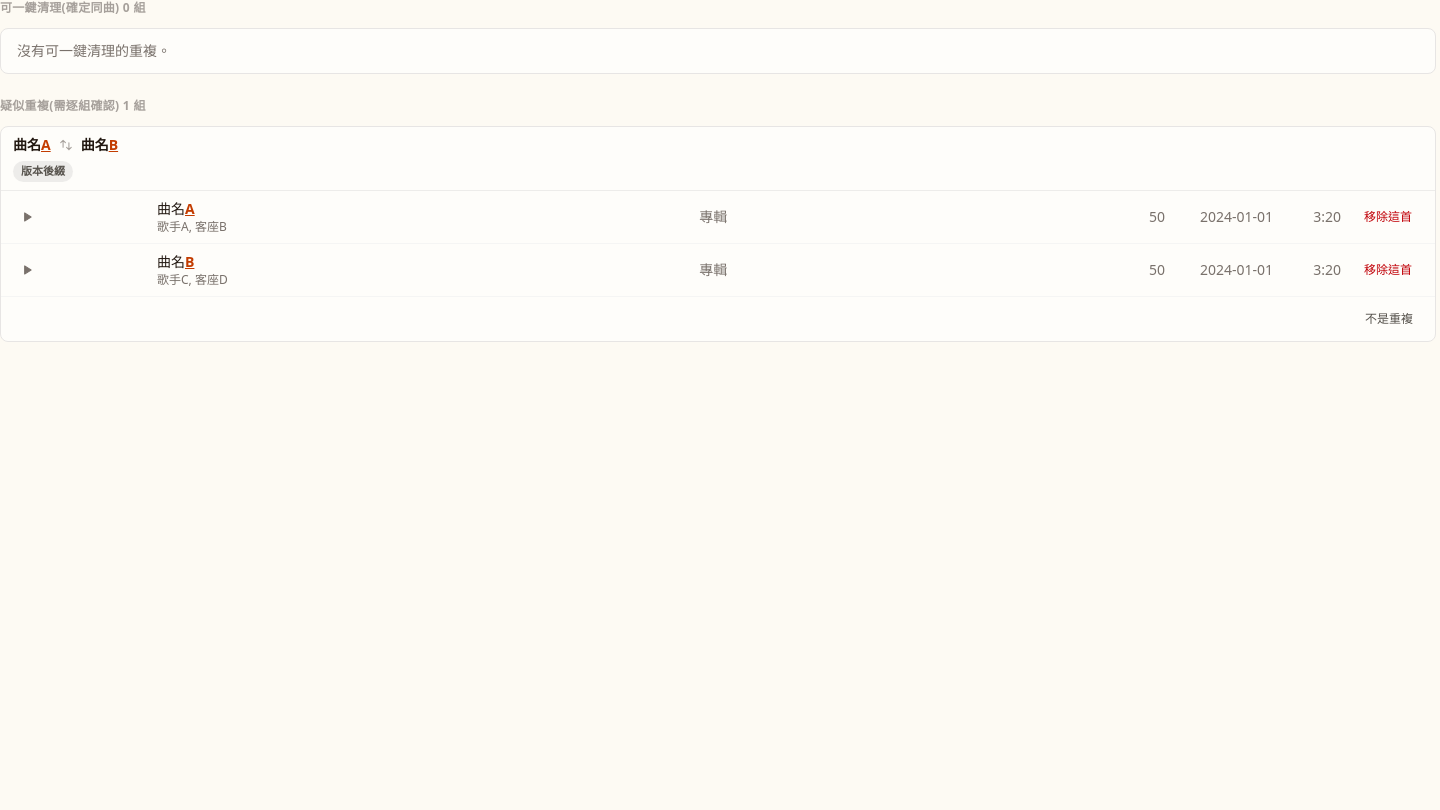
Test: CleanupView 疑似重複場景 › test_S5_取消移除為no-op
Click the button "移除這首" in the row of "歌手A, 客座B": click(1388, 216) [1353, 202, 1423, 230]
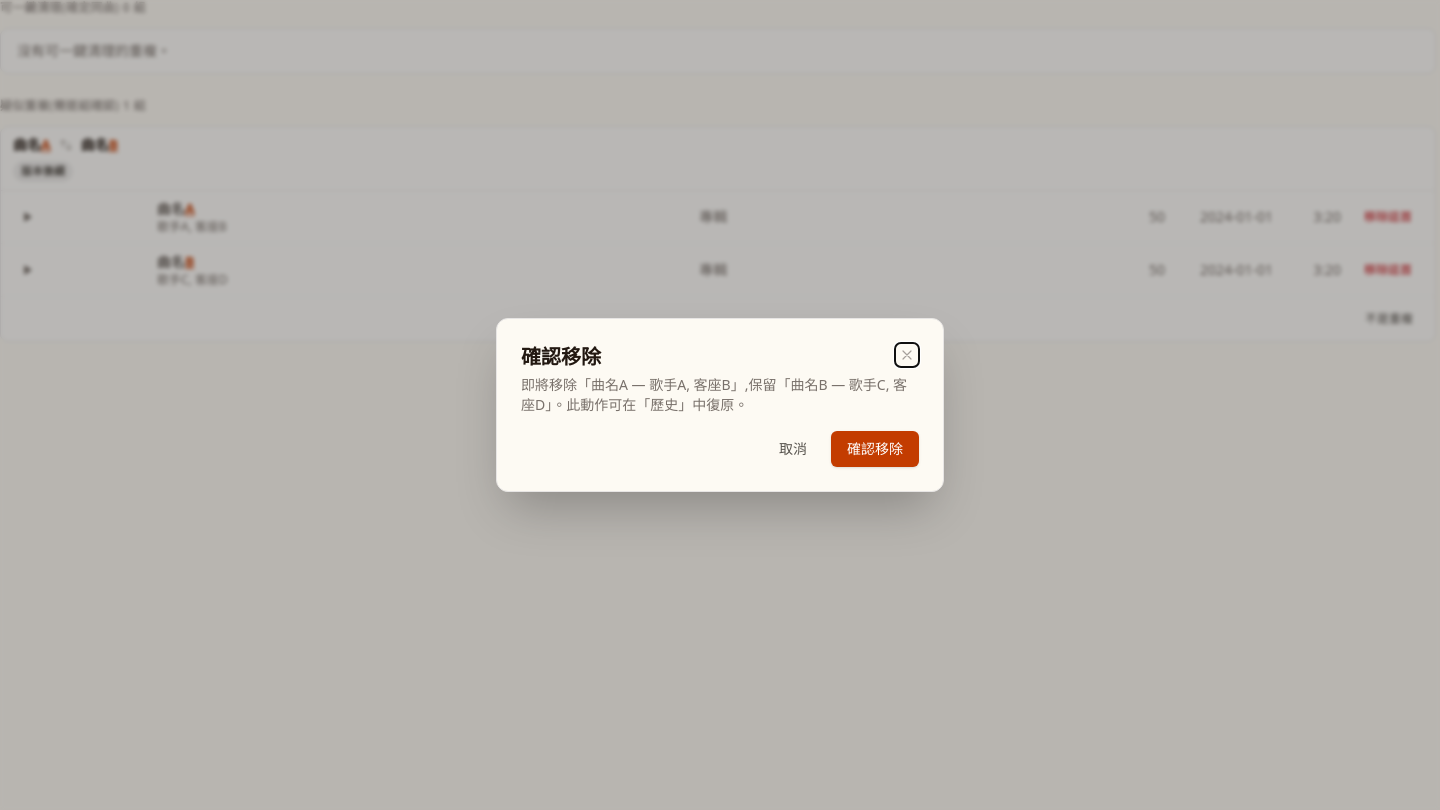
Click the button "取消": click(793, 449) [763, 431, 823, 467]
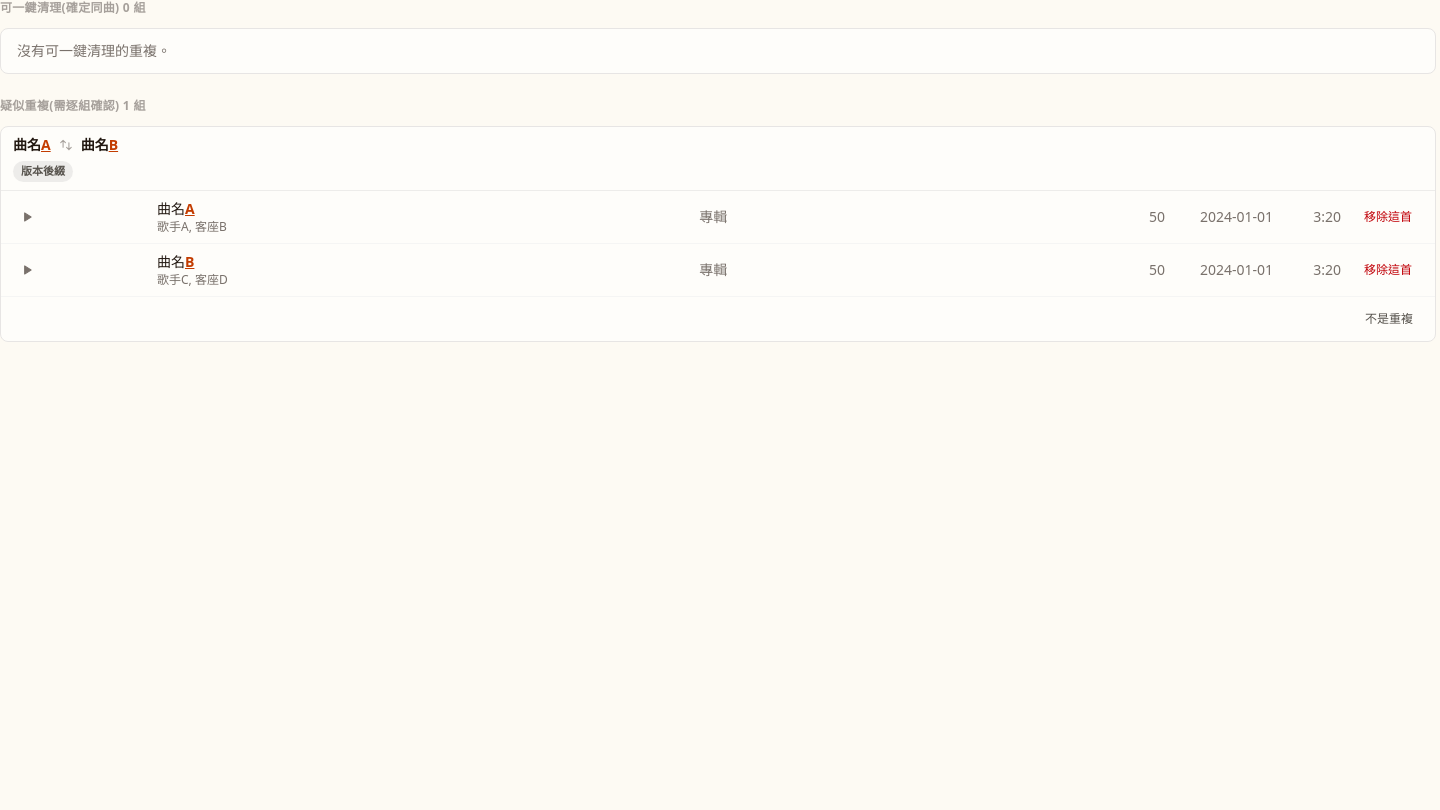
Check: the dialog is gone
